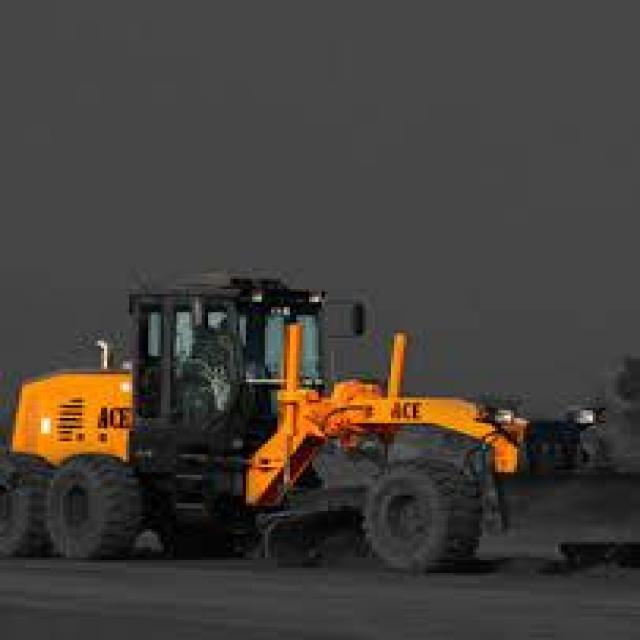Grader: (6, 258, 637, 568)
